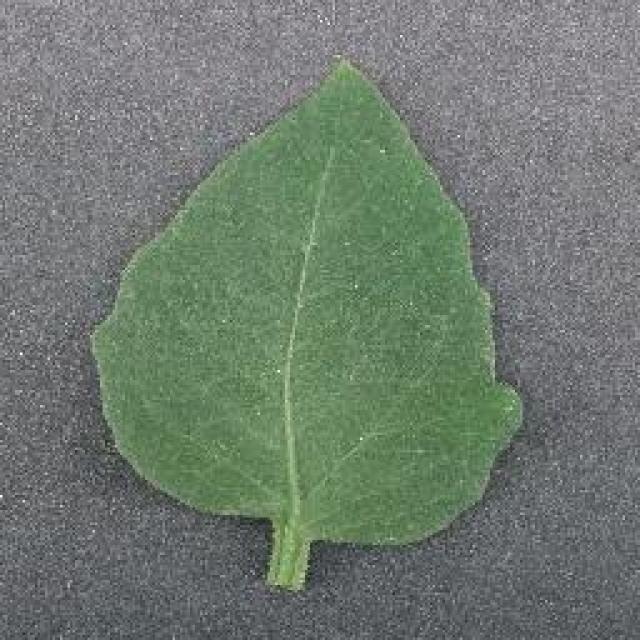Tomato___healthy: (87, 56, 524, 589)
